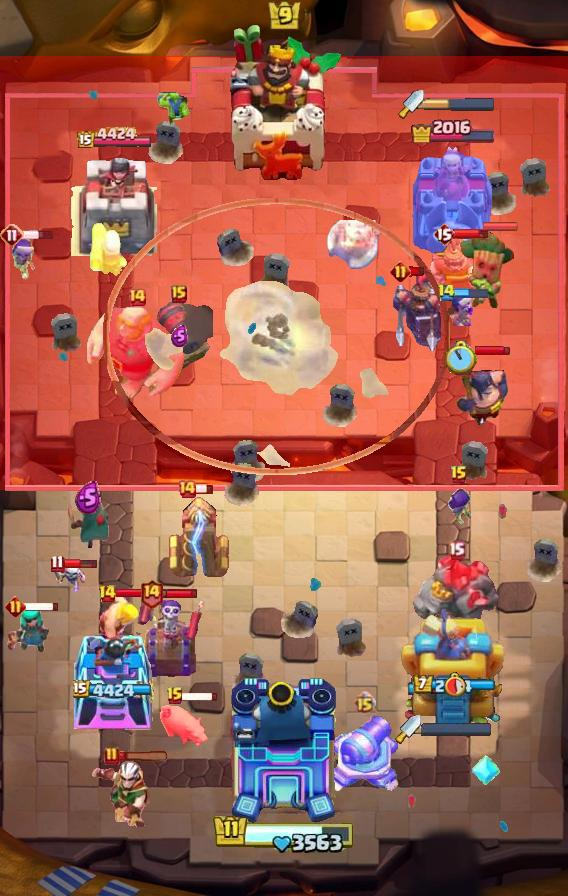archer: (98, 592, 142, 647)
balloon: (86, 304, 188, 402)
bar: (401, 601, 505, 731), (409, 142, 497, 256)
cannoneer-tower: (410, 553, 502, 653)
clock: (212, 814, 356, 856)
earthquake: (430, 233, 484, 303)
electro-spirit: (75, 482, 101, 515), (171, 325, 188, 347)
elixir: (446, 341, 477, 375), (445, 672, 467, 697)
elixir-golem-big: (391, 267, 441, 351)
emote: (118, 750, 170, 762), (115, 588, 169, 599), (454, 286, 490, 299), (17, 229, 54, 241), (453, 228, 489, 240), (475, 345, 511, 357), (161, 588, 198, 599), (24, 600, 61, 611), (182, 691, 219, 702), (483, 220, 519, 231), (62, 558, 98, 569), (194, 483, 214, 495), (409, 266, 426, 277)
giant: (159, 699, 211, 749)
goblin: (9, 238, 39, 280), (444, 487, 474, 527), (448, 292, 475, 326)
goblin-barrel: (458, 231, 516, 311)
goblin-brawler: (166, 494, 234, 580)
heal-spirit: (50, 561, 86, 595)
king-tower: (224, 23, 344, 181), (228, 676, 340, 826)
king-tower-bar: (424, 97, 496, 111), (421, 722, 493, 736)
monk: (454, 356, 510, 428)
pad_2: (472, 753, 500, 787)
queen-tower: (73, 623, 155, 731), (71, 156, 157, 256)
royal-ghost: (102, 197, 449, 475)
royal-giant: (325, 220, 381, 270)
royal-giant-evolution: (145, 301, 213, 375)
royal-recruit: (326, 715, 402, 799)
selected: (411, 116, 498, 143), (75, 126, 152, 151), (413, 675, 496, 697), (72, 679, 155, 700)
skeleton-king: (89, 761, 155, 827)
skeleton-king-bar: (136, 593, 204, 679)
tesla: (64, 494, 112, 552)
text: (140, 578, 165, 609), (0, 223, 24, 247), (352, 690, 375, 714), (433, 222, 455, 246), (5, 595, 27, 616), (389, 261, 410, 282), (127, 287, 147, 307), (177, 479, 197, 499), (99, 584, 118, 604), (450, 465, 468, 485), (166, 686, 184, 706), (436, 283, 455, 301), (447, 540, 465, 559), (104, 746, 120, 766), (171, 285, 187, 303), (51, 554, 66, 573)
tombstone: (88, 220, 130, 278)
witch: (4, 603, 52, 653)
zap: (156, 87, 192, 127)
